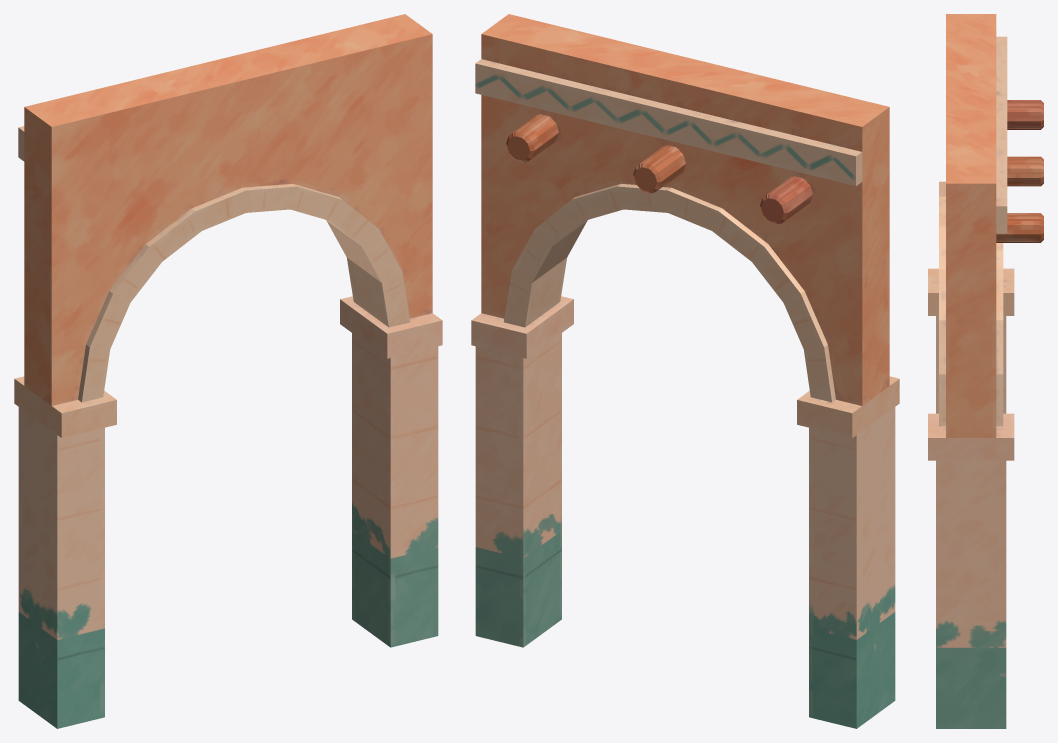
Rendered from wall2_arcade.bundle.fbx.
3 views of the same model, side by side, from view 1: azimuth 30°, elevation 25°; view 2: azimuth 150°, elevation 25°; view 3: azimuth 270°, elevation 25° (orthographic). The views are drawn at different scales.
Parts seen in each view (by area): view 1: wall2_arcade, wall2_arcade_s09, wall2_arcade_s01, wall2_arcade_s07, wall2_arcade_s02, wall2_arcade_s04, wall2_arcade_s06, wall2_arcade_s08, wall2_arcade_s05; view 2: wall2_arcade, wall2_arcade_s08, wall2_arcade_s01, wall2_arcade_s07, wall2_arcade_s04, wall2_arcade_s06, wall2_arcade_s02, wall2_arcade_s05, wall2_arcade_s09, wall2_arcade_low; view 3: wall2_arcade, wall2_arcade_s09, wall2_arcade_s08, wall2_arcade_s06, wall2_arcade_s04, wall2_arcade_s01, wall2_arcade_s02, wall2_arcade_low.
Part boxes in pixels (x1,y1,x2,y2): wall2_arcade: (14, 14, 442, 728); wall2_arcade_s09: (340, 302, 438, 646); wall2_arcade_s01: (20, 87, 133, 332); wall2_arcade_s07: (18, 497, 104, 728); wall2_arcade_s02: (16, 326, 116, 504); wall2_arcade_s04: (108, 59, 262, 267); wall2_arcade_s06: (325, 15, 442, 347); wall2_arcade_s08: (221, 22, 390, 231); wall2_arcade_s05: (31, 261, 162, 401); wall2_arcade: (471, 14, 899, 728); wall2_arcade_s08: (513, 24, 680, 240); wall2_arcade_s01: (778, 88, 889, 343); wall2_arcade_s07: (809, 476, 895, 727); wall2_arcade_s04: (666, 55, 805, 282); wall2_arcade_s06: (471, 14, 588, 341); wall2_arcade_s02: (799, 348, 898, 532); wall2_arcade_s05: (765, 277, 889, 356); wall2_arcade_s09: (472, 320, 573, 357); wall2_arcade_low: (507, 114, 806, 223); wall2_arcade: (928, 14, 1043, 728); wall2_arcade_s09: (936, 459, 1013, 728); wall2_arcade_s08: (939, 104, 1007, 295); wall2_arcade_s06: (928, 165, 1014, 464); wall2_arcade_s04: (939, 51, 1007, 202); wall2_arcade_s01: (946, 14, 1007, 71); wall2_arcade_s02: (928, 268, 1014, 406); wall2_arcade_low: (996, 106, 1043, 242).
Size of the model in its own units: 8 by 12 by 2.31.
1 material, 1 textured.
